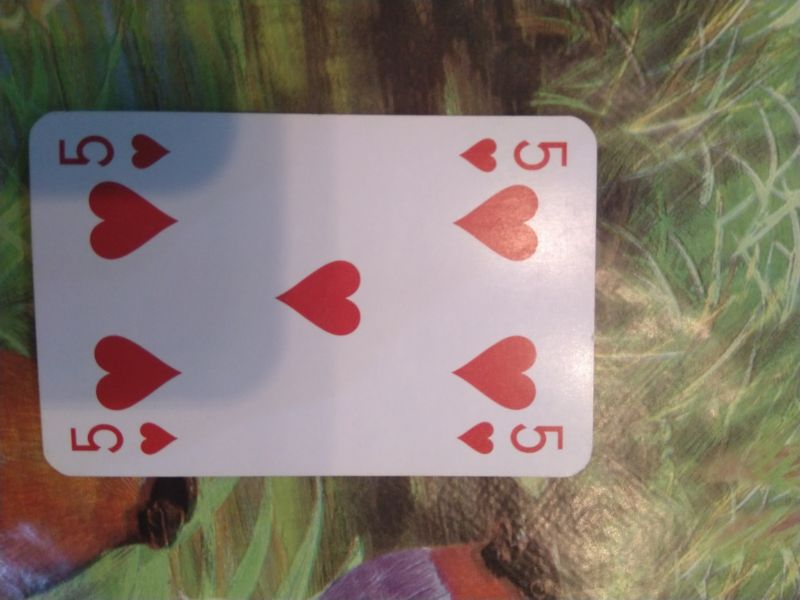5h: (452, 132, 577, 176), (53, 129, 175, 171), (65, 419, 183, 458), (453, 418, 571, 456)
